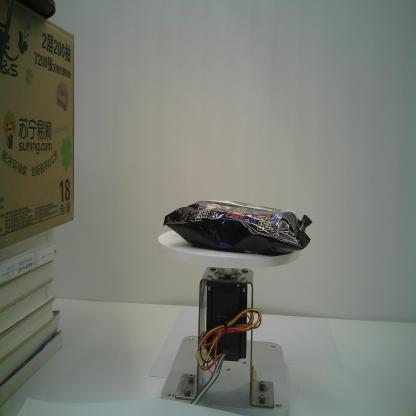Instant Noodles: (161, 197, 315, 259)
